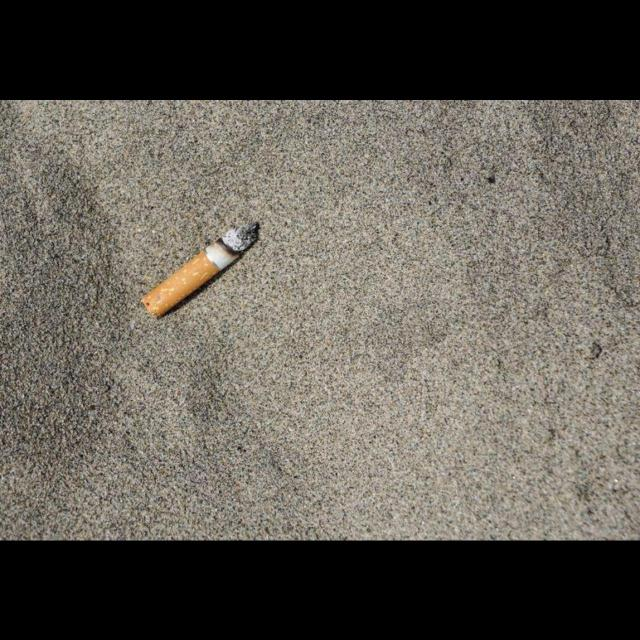cigarette: (142, 222, 260, 320)
